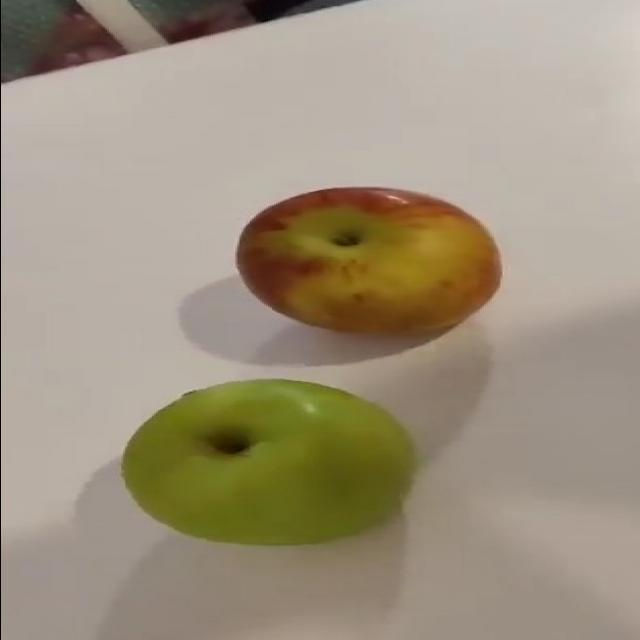Apple: (120, 377, 417, 546), (235, 185, 502, 336)
